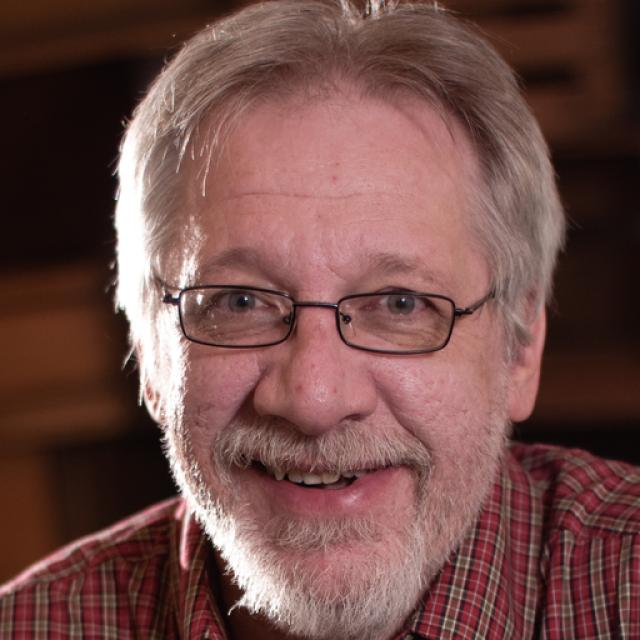Wrinkle: (224, 186, 363, 203)
